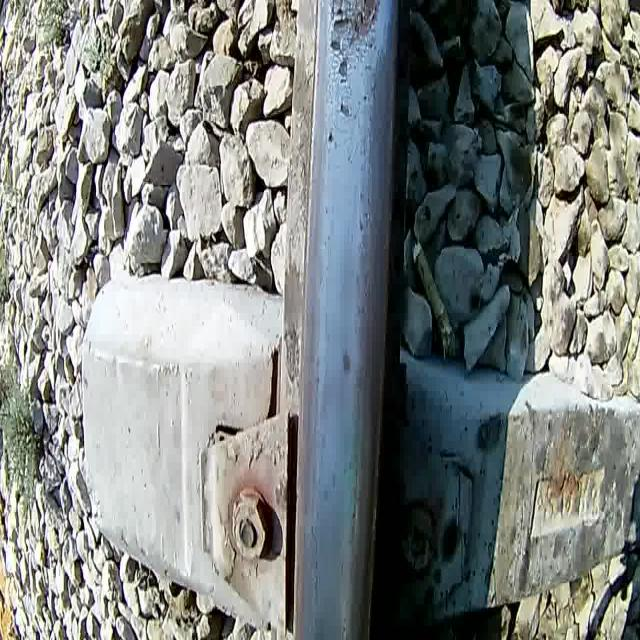Spallings: (353, 0, 380, 43)
Squats: (324, 0, 383, 154), (336, 338, 357, 383)
